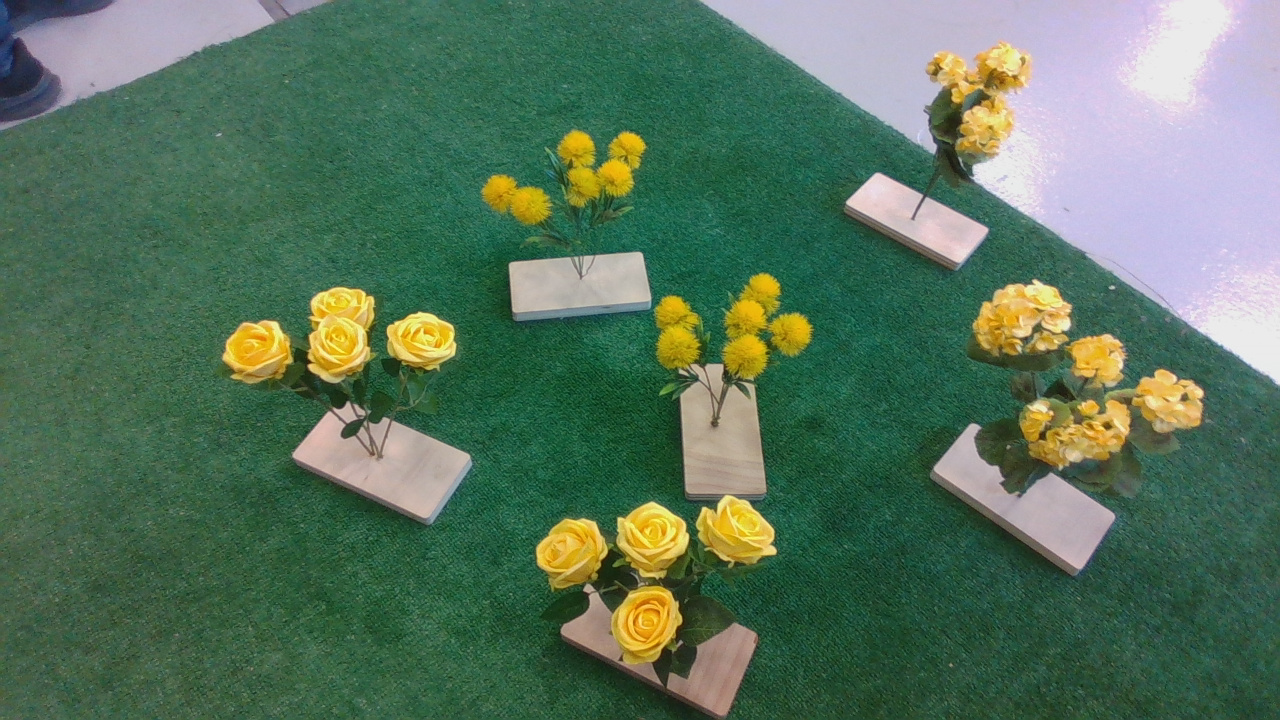dandelion: (479, 130, 669, 263), (653, 271, 822, 414)
geranium: (963, 276, 1215, 506), (921, 41, 1043, 195)
rose: (534, 500, 800, 699), (223, 283, 480, 441)
